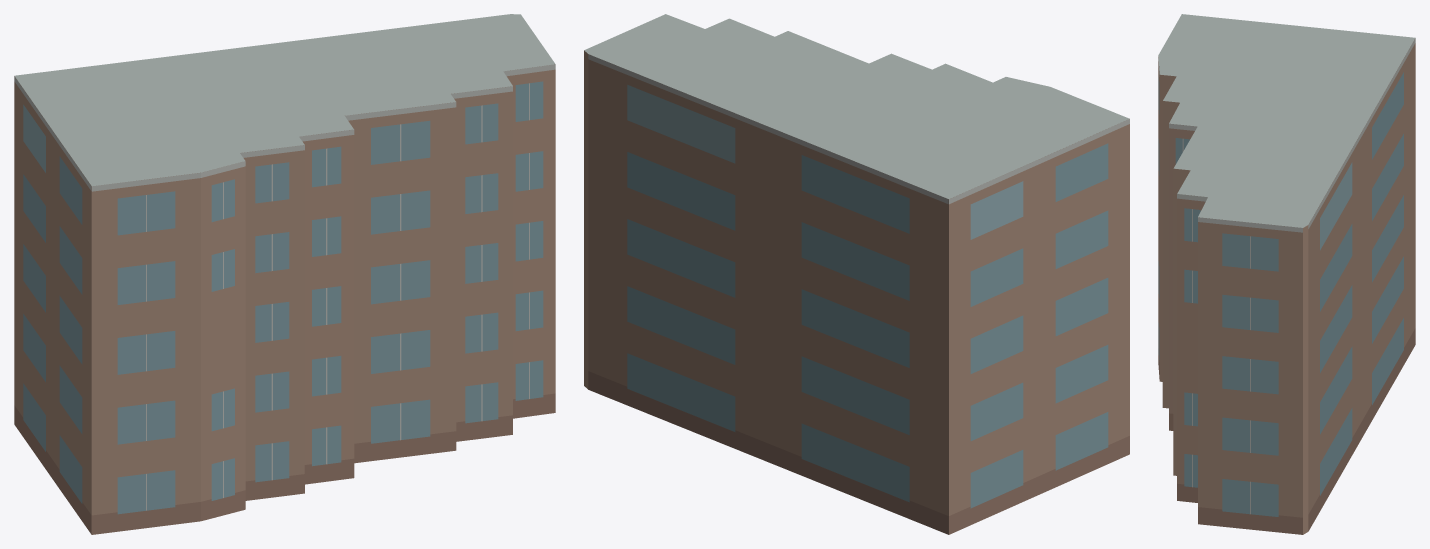
File: survey-upis-32903434.glb
3 renders of one model, left to right at view 1: azimuth 30°, elevation 25°; view 2: azimuth 150°, elevation 25°; view 3: azimuth 270°, elevation 25°, orthographic. The views are drawn at different scales.
Parts seen in each view (by area): view 1: survey-upis-32903434.tmp; view 2: survey-upis-32903434.tmp; view 3: survey-upis-32903434.tmp.
Boxes of the visible parts, x1,y1,x2,y2 form: survey-upis-32903434.tmp: [14, 14, 555, 534]; survey-upis-32903434.tmp: [584, 14, 1129, 534]; survey-upis-32903434.tmp: [1158, 14, 1415, 534].
Bounding box in the file's own units: 23.78 × 15.9 × 12.09.
